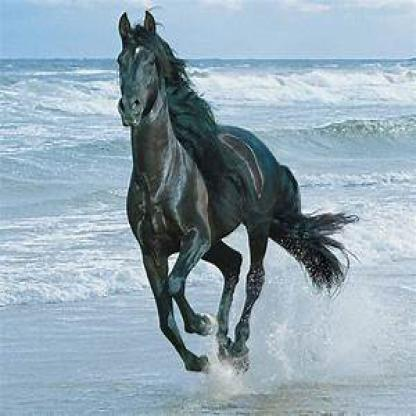horse: (118, 13, 344, 387)
